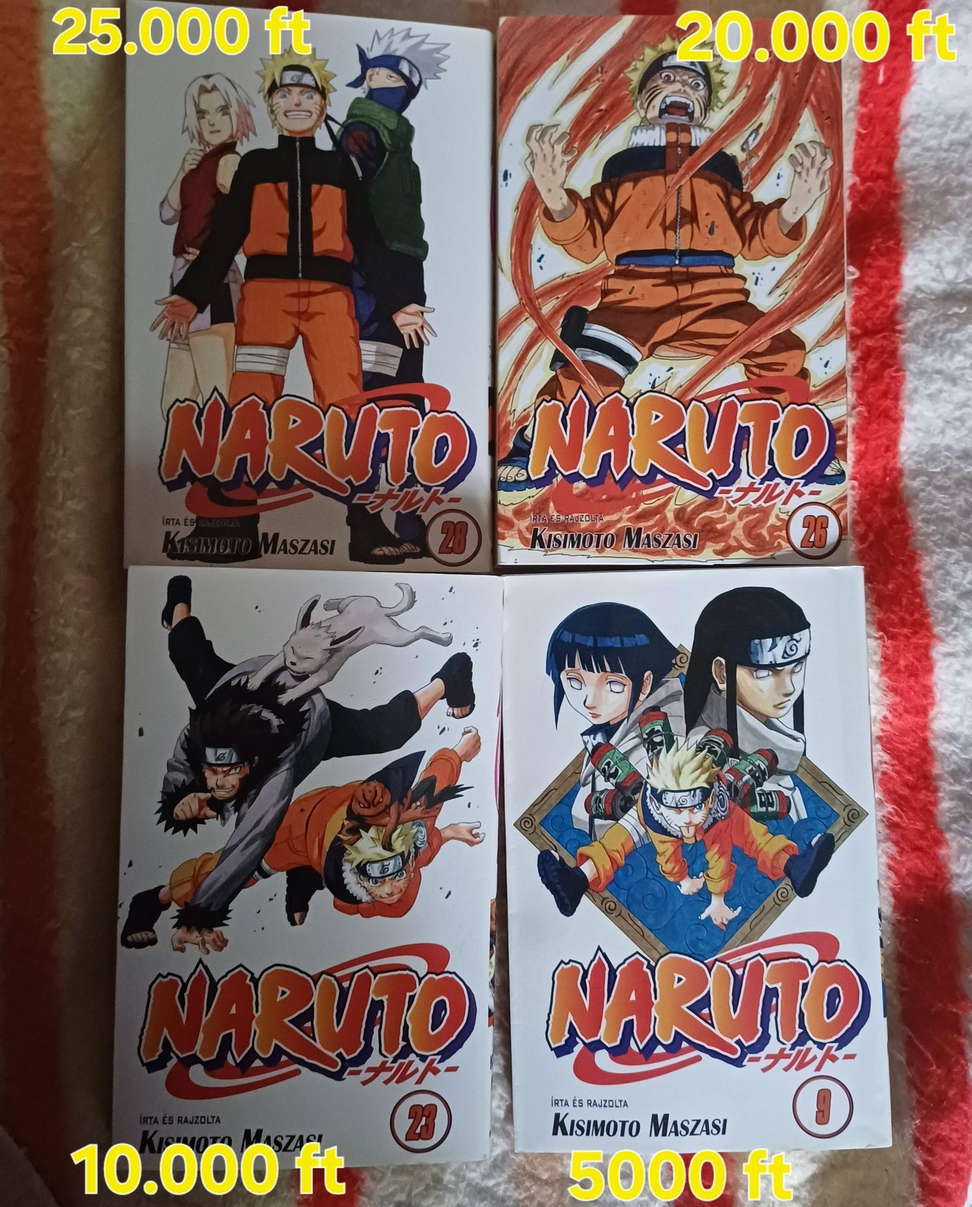comic: (111, 566, 504, 1173), (498, 563, 890, 1159), (125, 0, 494, 571), (488, 12, 849, 567)
